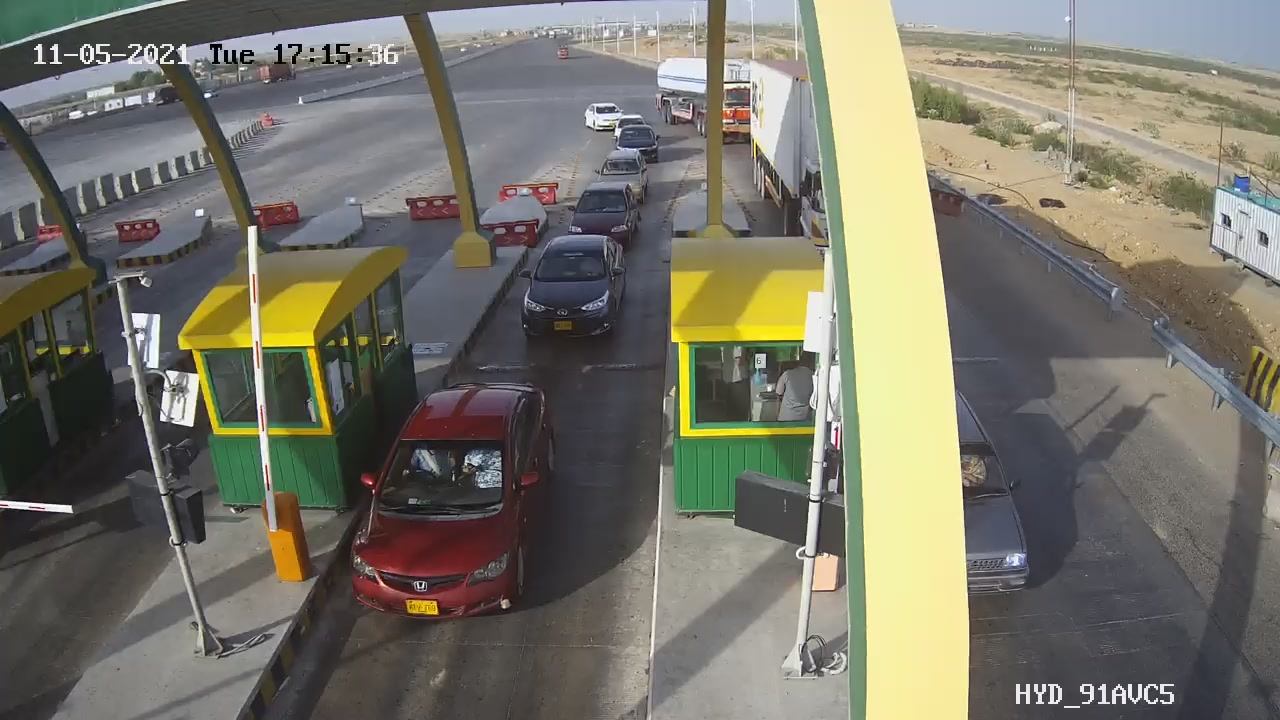F1: (334, 373, 572, 640), (507, 222, 639, 356)
